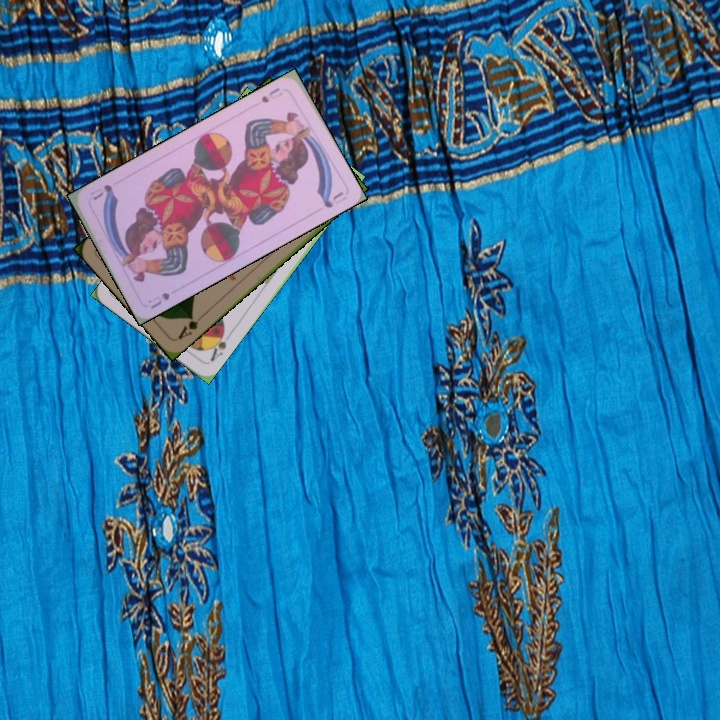GA: (174, 311, 206, 342)
SA: (205, 326, 229, 364)
SU: (144, 288, 172, 311), (257, 83, 285, 105)
